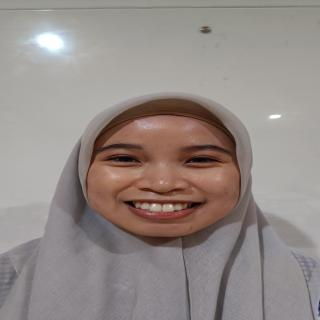Senang: (77, 106, 256, 244)
